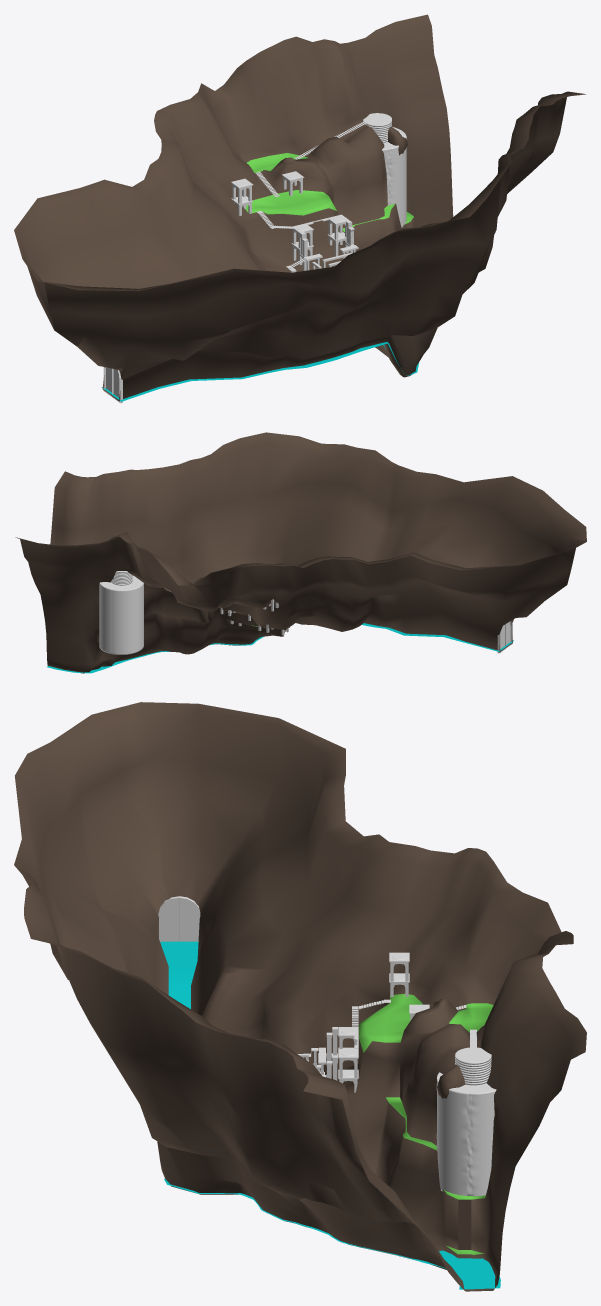
Rendered from Jester's Playground.fbx.
3 renders of one model, top to bottom at view 1: azimuth 30°, elevation 25°; view 2: azimuth 150°, elevation 25°; view 3: azimuth 270°, elevation 25°, orthographic. The views are drawn at different scales.
Visible parts, largest first — view 1: Terrain, Circle, River, Platform.002, Platform.006, Platform.009, Platform.007, Circle.001; view 2: Terrain, Circle, River, Circle.001; view 3: Terrain, Circle, River, Circle.001.
Boxes of the visible parts, left/top/right/bottom form: Terrain: left=14, top=14, right=586, bottom=401; Circle: left=363, top=113, right=406, bottom=227; River: left=101, top=342, right=419, bottom=401; Platform.002: left=299, top=220, right=358, bottom=270; Platform.006: left=327, top=214, right=349, bottom=256; Platform.009: left=231, top=178, right=253, bottom=215; Platform.007: left=291, top=223, right=313, bottom=265; Circle.001: left=103, top=367, right=122, bottom=403; Terrain: left=15, top=432, right=586, bottom=673; Circle: left=99, top=571, right=143, bottom=654; River: left=47, top=623, right=513, bottom=673; Circle.001: left=497, top=621, right=512, bottom=653; Terrain: left=14, top=702, right=586, bottom=1291; Circle: left=436, top=1047, right=496, bottom=1196; River: left=160, top=941, right=500, bottom=1289; Circle.001: left=158, top=896, right=200, bottom=942.
Bounding box in the file's own units: 38914 × 12959 × 25077.
